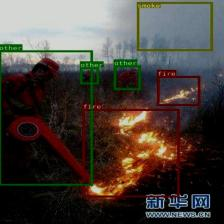fire: (82, 109, 179, 197), (157, 76, 200, 105)
smoke: (137, 2, 212, 50)
